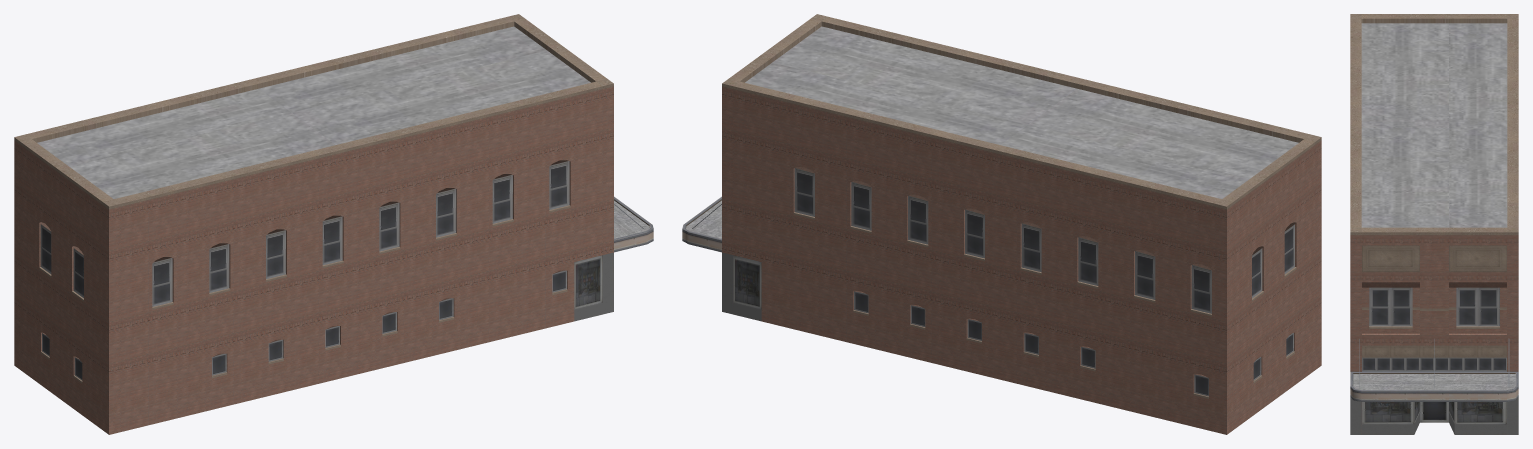
Rendered from building-a.glb.
3 renders of one model, left to right at view 1: azimuth 30°, elevation 25°; view 2: azimuth 150°, elevation 25°; view 3: azimuth 270°, elevation 25°, orthographic. The views are drawn at different scales.
Visible parts, largest first — view 1: MainBuilding_0; view 2: MainBuilding_0; view 3: MainBuilding_0.
Boxes of the visible parts, bbox=[...] form: MainBuilding_0: bbox=[14, 14, 653, 434]; MainBuilding_0: bbox=[682, 14, 1321, 434]; MainBuilding_0: bbox=[1350, 14, 1518, 434].
Size of the model in its own units: 2 by 0.7932 by 0.598.
Materials: 1 (1 with a texture image).
